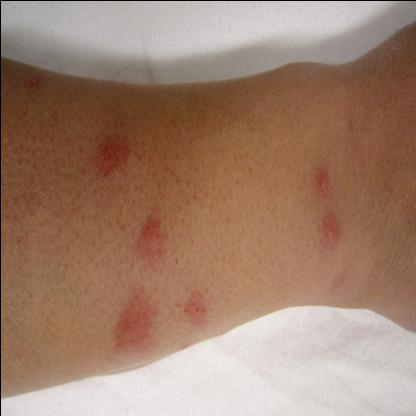Bed Bug: (107, 288, 160, 354), (310, 167, 342, 250), (126, 216, 168, 272), (88, 132, 134, 180), (179, 283, 211, 329), (324, 271, 350, 291), (27, 70, 42, 95)
